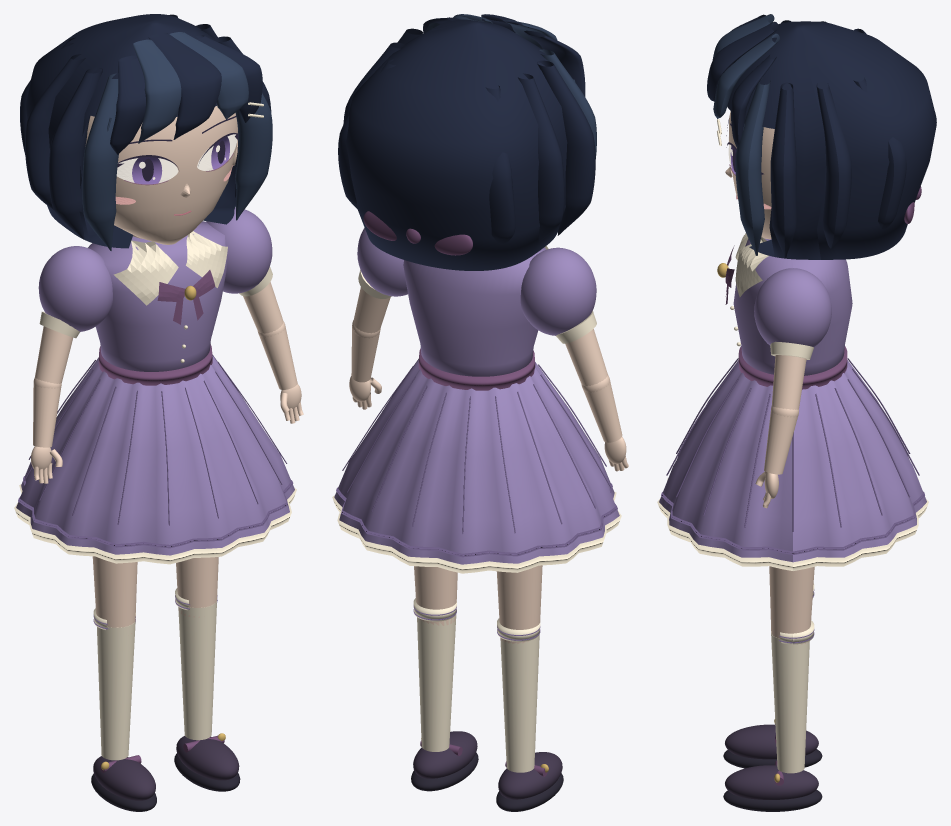
Rendered from suzu.glb.
The picture shows the model from 3 angles, left to right: view 1: azimuth 30°, elevation 25°; view 2: azimuth 150°, elevation 25°; view 3: azimuth 270°, elevation 25°; orthographic projection. The views are drawn at different scales.
Visible parts, largest first — view 1: Pleated skirt, Fitted bodice, Face, Bob silhouette, LeftPuffSleeve, -1Bob lock 1, LeftSock, RightSock, -1Bob lock 0, Fringe 2, RightPuffSleeve, 1Bob lock 0 (+22 smaller); view 2: Pleated skirt, Bob silhouette, Fitted bodice, LeftPuffSleeve, LeftSock, RightSock, -1Bob lock 1, -1Bob lock 2, Ivory hem, LeftLegSkin, -1Bob lock 3, RightPuffSleeve (+17 smaller); view 3: Pleated skirt, Bob silhouette, Fitted bodice, RightPuffSleeve, RightSock, 1Bob lock 1, 1Bob lock 0, 1Bob lock 2, RightLegSkin, Ivory hem, RightMaryJane, LeftMaryJane (+14 smaller).
Boxes of the visible parts, left/top/right/bottom form: Pleated skirt: left=16, top=355, right=294, bottom=555; Fitted bodice: left=88, top=221, right=227, bottom=371; Face: left=85, top=106, right=237, bottom=244; Bob silhouette: left=25, top=14, right=236, bottom=248; LeftPuffSleeve: left=38, top=246, right=112, bottom=331; -1Bob lock 1: left=49, top=67, right=102, bottom=239; LeftSock: left=97, top=621, right=135, bottom=760; RightSock: left=178, top=601, right=216, bottom=740; -1Bob lock 0: left=82, top=73, right=118, bottom=250; Fringe 2: left=148, top=32, right=221, bottom=139; RightPuffSleeve: left=206, top=207, right=272, bottom=293; 1Bob lock 0: left=235, top=93, right=272, bottom=220; Pleated skirt: left=334, top=360, right=619, bottom=564; Bob silhouette: left=345, top=19, right=567, bottom=270; Fitted bodice: left=403, top=247, right=546, bottom=376; LeftPuffSleeve: left=520, top=247, right=596, bottom=335; LeftSock: left=500, top=635, right=539, bottom=772; RightSock: left=417, top=614, right=456, bottom=751; -1Bob lock 1: left=537, top=60, right=595, bottom=235; -1Bob lock 2: left=518, top=73, right=564, bottom=241; Ivory hem: left=332, top=491, right=621, bottom=573; LeftLegSkin: left=496, top=565, right=542, bottom=643; -1Bob lock 3: left=485, top=85, right=515, bottom=244; RightPuffSleeve: left=357, top=228, right=407, bottom=296; Pleated skirt: left=659, top=360, right=926, bottom=562; Bob silhouette: left=727, top=21, right=936, bottom=259; Fitted bodice: left=733, top=238, right=852, bottom=375; RightPuffSleeve: left=754, top=268, right=831, bottom=347; RightSock: left=771, top=631, right=809, bottom=773; 1Bob lock 1: left=770, top=82, right=796, bottom=257; 1Bob lock 0: left=735, top=77, right=770, bottom=255; 1Bob lock 2: left=816, top=83, right=851, bottom=248; RightLegSkin: left=769, top=566, right=814, bottom=644; Ivory hem: left=657, top=478, right=928, bottom=570; RightMaryJane: left=725, top=765, right=818, bottom=799; LeftMaryJane: left=725, top=724, right=818, bottom=759.
Size of the model in its own units: 0.616 by 1.66 by 0.5526.
